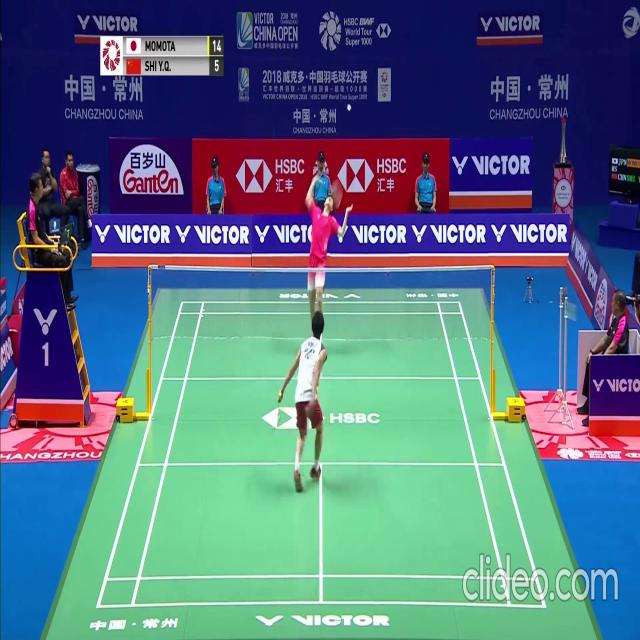Shuttlecock: (346, 104, 351, 112)
